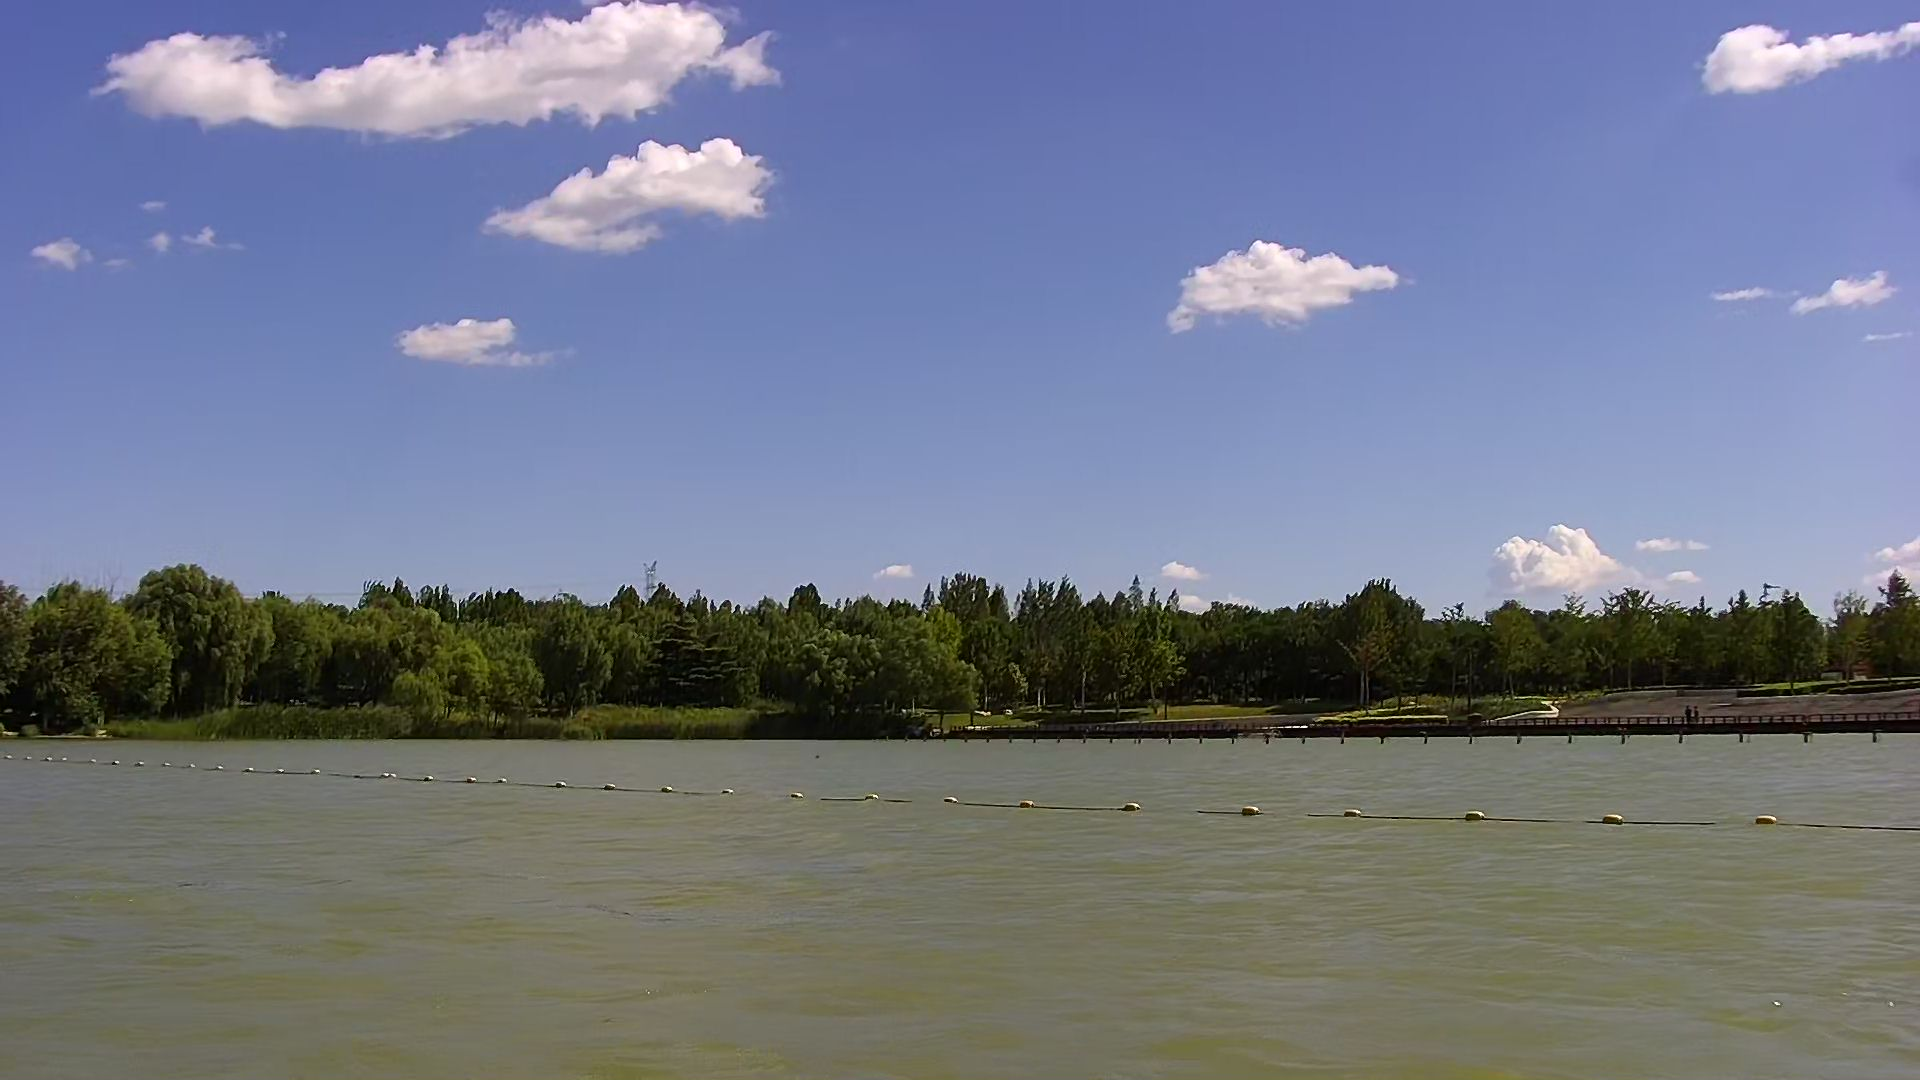ball: (1741, 793, 1795, 837), (1327, 793, 1387, 832), (1109, 785, 1153, 825), (1457, 796, 1501, 832), (1600, 802, 1639, 840), (1236, 796, 1265, 828)
